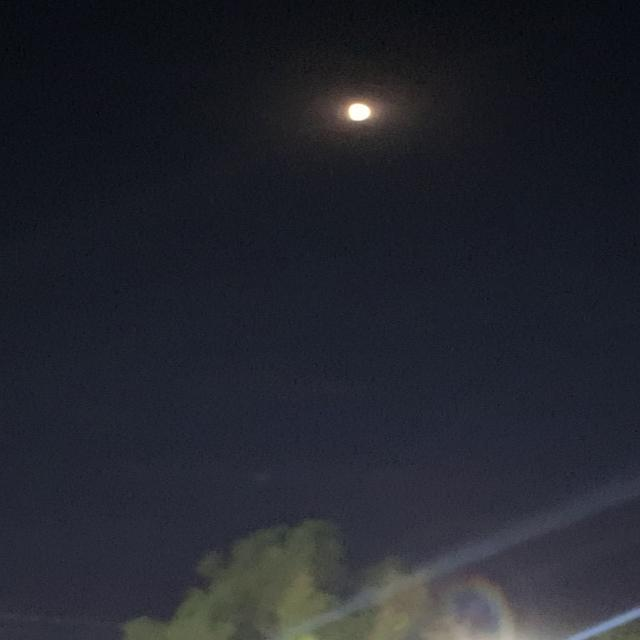moon: (328, 96, 393, 132)
